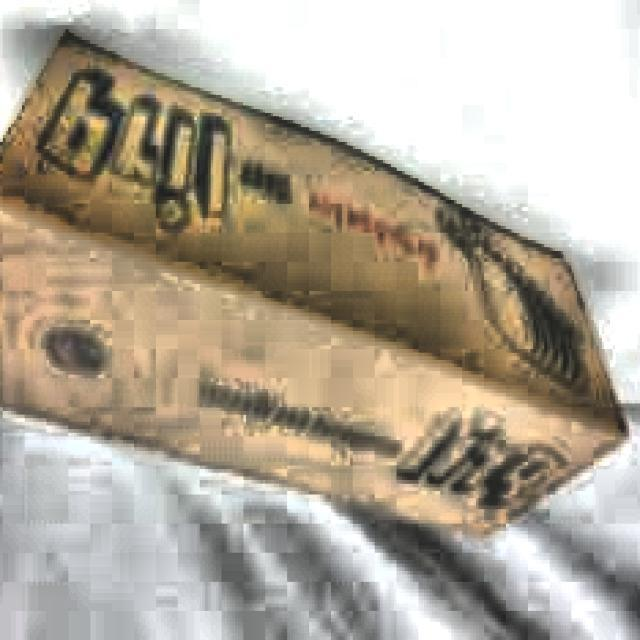cardboard: (0, 29, 629, 546)
